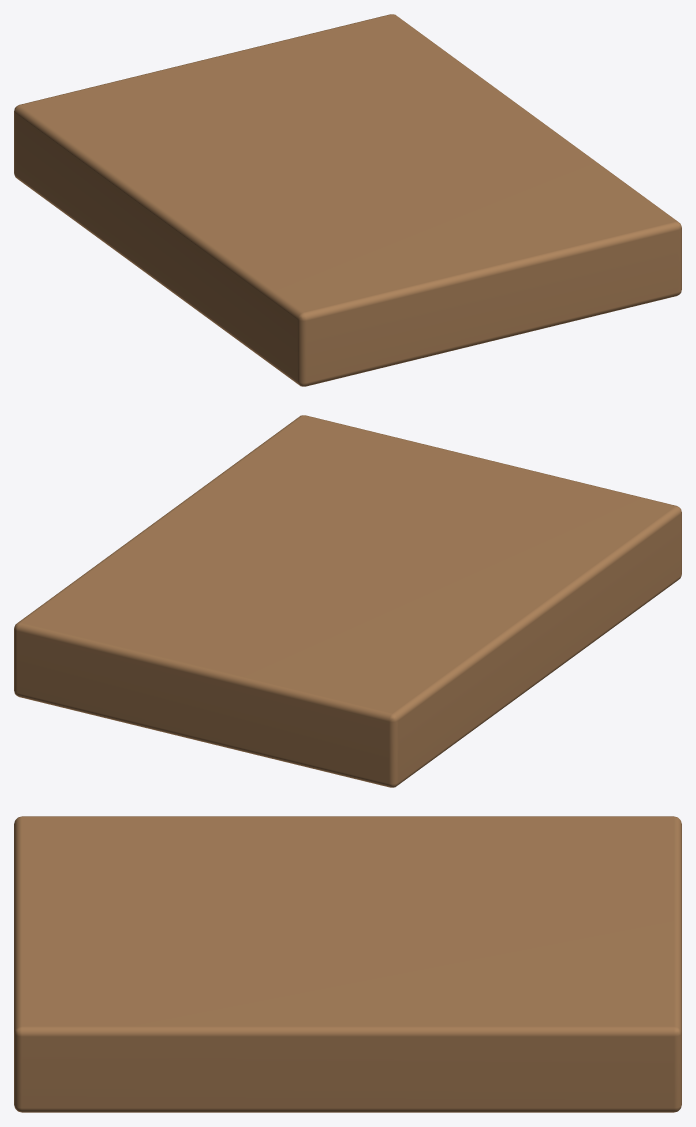
The model's file is SM_EG_Planter_soil_06a8edc2b1.fbx.
3 views of the same model, one above another, from view 1: azimuth 30°, elevation 25°; view 2: azimuth 150°, elevation 25°; view 3: azimuth 270°, elevation 25° (orthographic). The views are drawn at different scales.
Parts seen in each view (by area): view 1: SM_EG_Planter_soil_06a8edc2b1; view 2: SM_EG_Planter_soil_06a8edc2b1; view 3: SM_EG_Planter_soil_06a8edc2b1.
Boxes of the visible parts, left/top/right/bottom form: SM_EG_Planter_soil_06a8edc2b1: left=14, top=14, right=681, bottom=386; SM_EG_Planter_soil_06a8edc2b1: left=14, top=415, right=681, bottom=787; SM_EG_Planter_soil_06a8edc2b1: left=14, top=816, right=681, bottom=1112.
Bounding box in the file's own units: 260 × 340 × 48.
